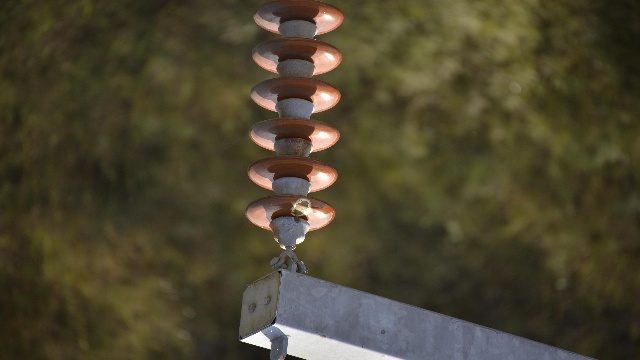insulator_unspecified: (244, 5, 344, 233)
pollution_flashover_local: (289, 194, 315, 218)
